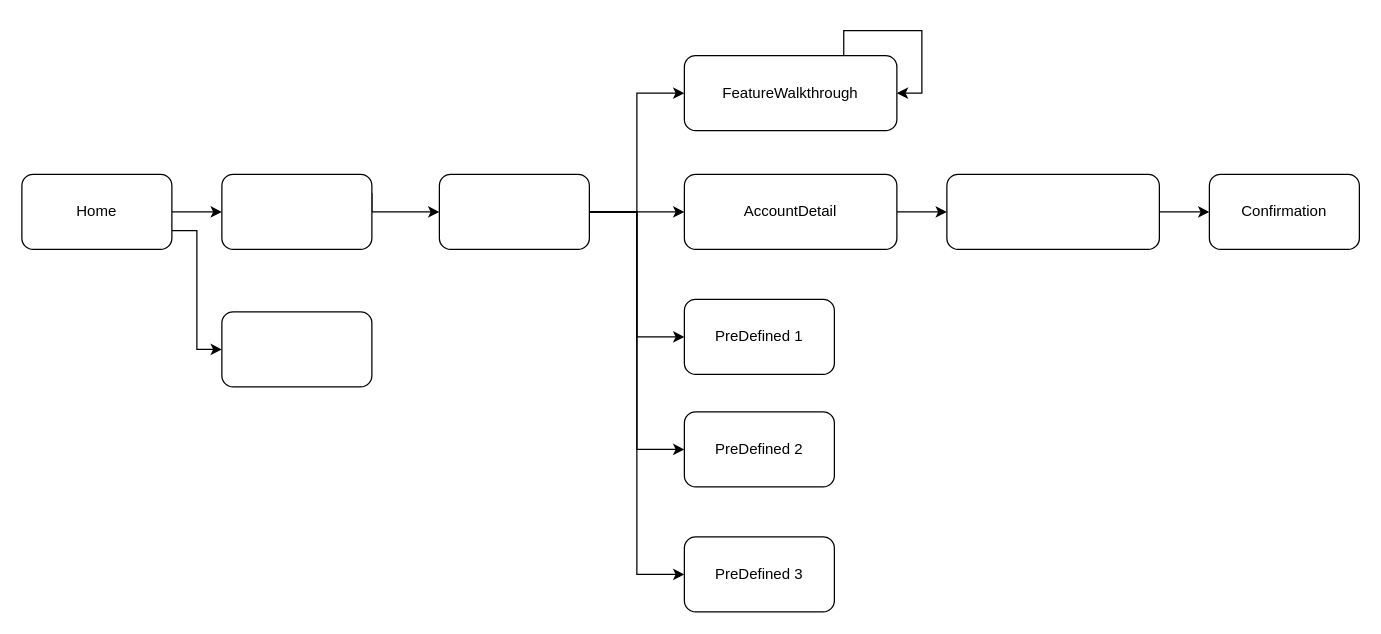
Image size: 1381x634. Some labels were removed from this diagram. Here are the shapes that lost their labels. From the top down, the box of each, then its label:
(221, 173, 372, 249): DemoLibrary
(438, 173, 589, 249): Demo Summary
(946, 173, 1159, 249): CustomerDetail
(221, 311, 372, 387): AboutRokt
